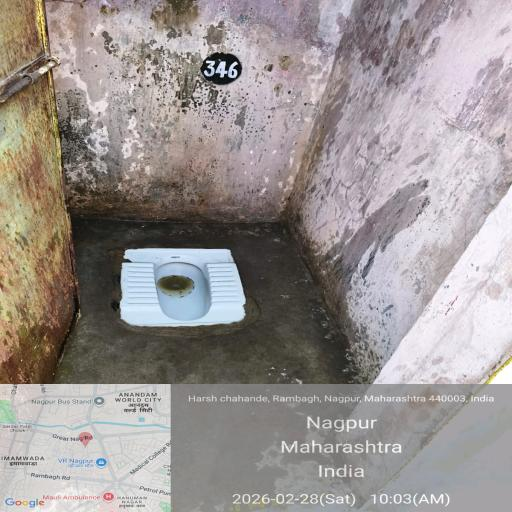dirty_floor: (40, 199, 365, 382), (79, 11, 299, 183), (0, 17, 80, 370)
